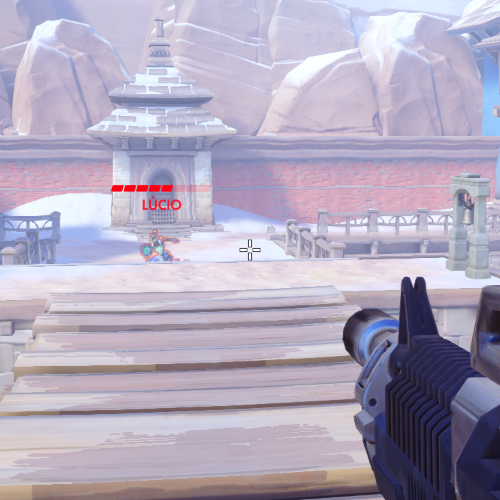hpbar: (111, 185, 211, 192)
